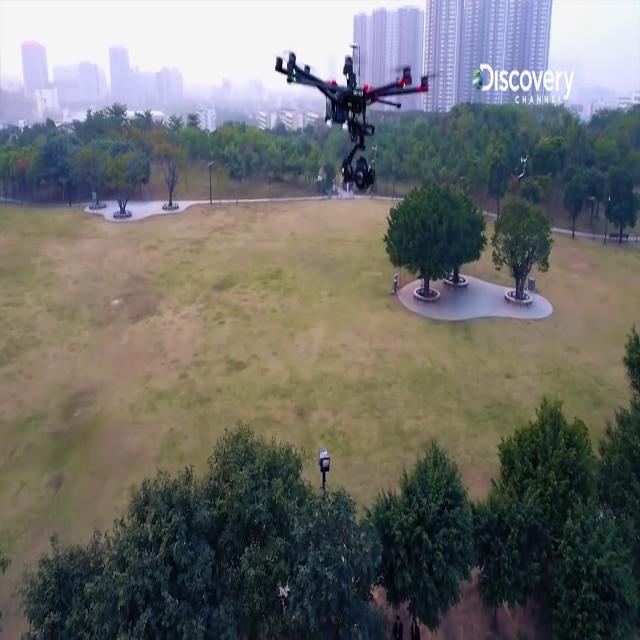drone: (279, 42, 436, 195)
